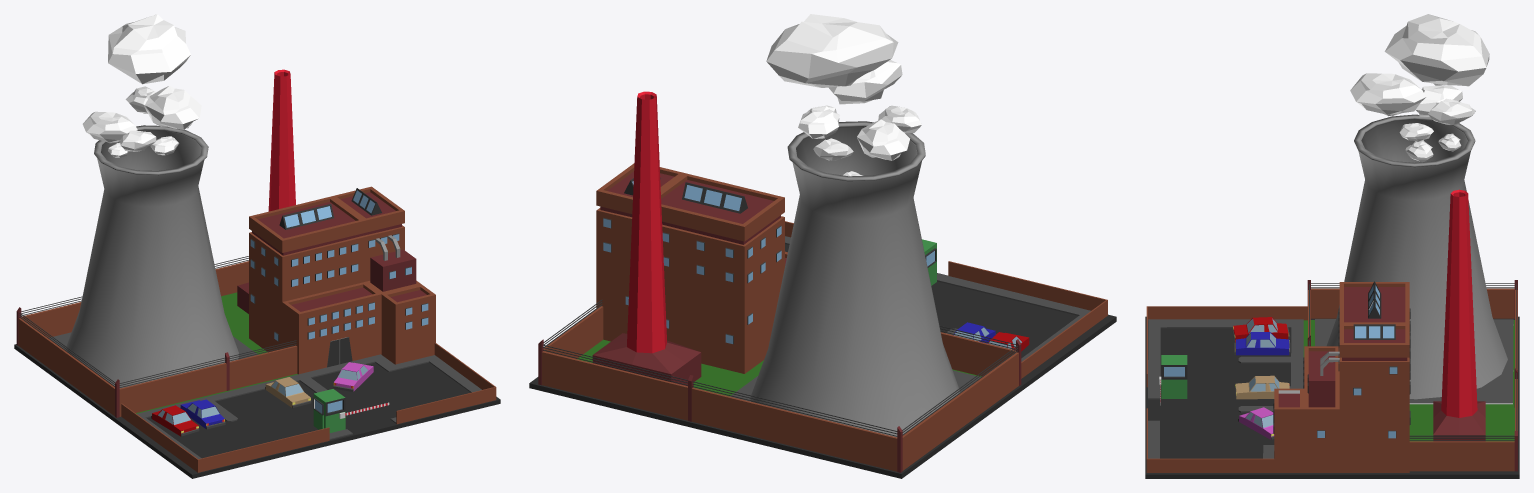
3 views of the same model, side by side, from view 1: azimuth 30°, elevation 25°; view 2: azimuth 150°, elevation 25°; view 3: azimuth 270°, elevation 25° (orthographic). The views are drawn at different scales.
Parts seen in each view (by area): view 1: DIV_T3_16_PERRONE_01, DIV_T3_16_PERRONE_01.001, Sphere.007, Sphere.002, Sphere.005, Car.003, Car.001, Car, Car.002, Sphere.006; view 2: DIV_T3_16_PERRONE_01, DIV_T3_16_PERRONE_01.001, Sphere.007, Sphere.002, Sphere.005, Sphere.001, Sphere.006, Sphere; view 3: DIV_T3_16_PERRONE_01, DIV_T3_16_PERRONE_01.001, Sphere.007, Sphere.002, Car, Car.001, Sphere.001, Car.003, Sphere.005, Car.002, Sphere.004, Sphere.
Boxes of the visible parts, x1,y1,x2,y2 form: DIV_T3_16_PERRONE_01: (16, 69, 496, 472); DIV_T3_16_PERRONE_01.001: (14, 292, 500, 478); Sphere.007: (108, 14, 190, 84); Sphere.002: (144, 85, 201, 129); Sphere.005: (82, 111, 137, 143); Car.003: (151, 405, 199, 436); Car.001: (265, 377, 311, 408); Car: (180, 399, 225, 429); Car.002: (333, 362, 373, 391); Sphere.006: (120, 130, 156, 151); DIV_T3_16_PERRONE_01: (538, 91, 1107, 472); DIV_T3_16_PERRONE_01.001: (529, 244, 1116, 478); Sphere.007: (766, 14, 898, 87); Sphere.002: (829, 59, 902, 104); Sphere.005: (857, 119, 909, 160); Sphere.001: (798, 106, 839, 138); Sphere.006: (878, 105, 921, 133); Sphere: (813, 138, 853, 160); DIV_T3_16_PERRONE_01: (1146, 114, 1517, 472); DIV_T3_16_PERRONE_01.001: (1145, 316, 1519, 478); Sphere.007: (1384, 14, 1489, 86); Sphere.002: (1350, 73, 1426, 116); Car: (1234, 332, 1290, 355); Car.001: (1235, 375, 1290, 399); Sphere.001: (1428, 98, 1475, 124); Car.003: (1232, 317, 1290, 341); Sphere.005: (1415, 85, 1462, 116); Car.002: (1238, 407, 1274, 439); Sphere.004: (1399, 123, 1433, 141); Sphere: (1405, 140, 1433, 162).
Size of the model in its own units: 4 by 4.08 by 4.
